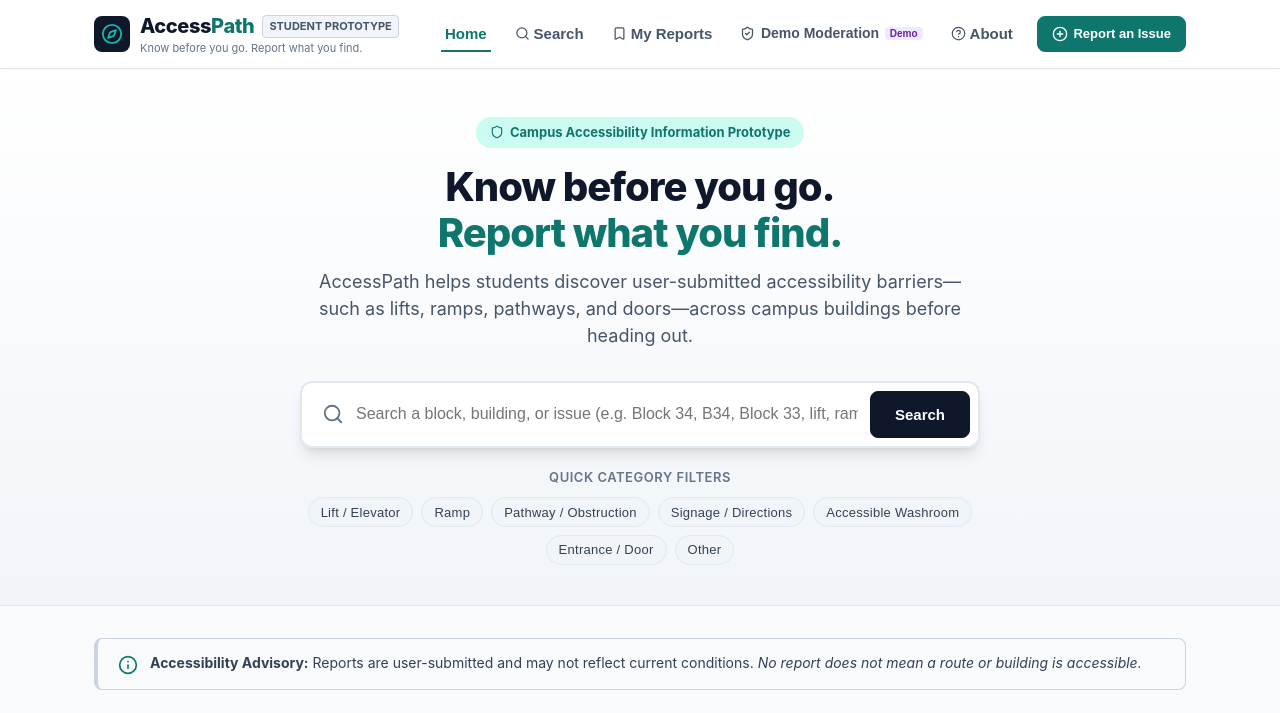
Scenario: Vercel Routing, Direct URL Entry & Browser Refresh Verification › Browser Back and Forward Navigation (popstate / hashchange) › handles navigation and browser popstate/hashchange events correctly
This screenshot has width=1280, height=713.
Later steps or results of the test are not shown.
Check: the text "Know before you go. Report what you find." is shown, box [140, 40, 399, 57]
Navigate to Search via Navbar
Click the 1st button "Search" at (549, 34), box [511, 16, 588, 52]
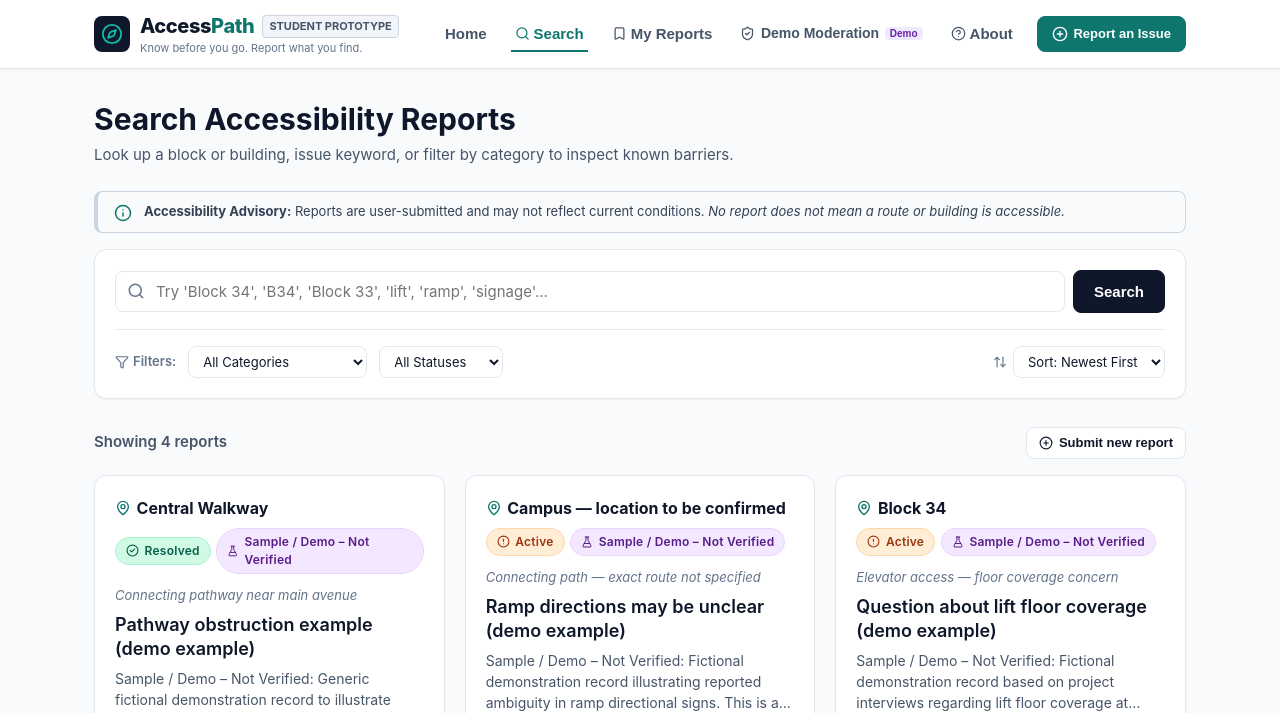
Check: the heading "Search Accessibility Reports" is shown, box [94, 101, 516, 137]
